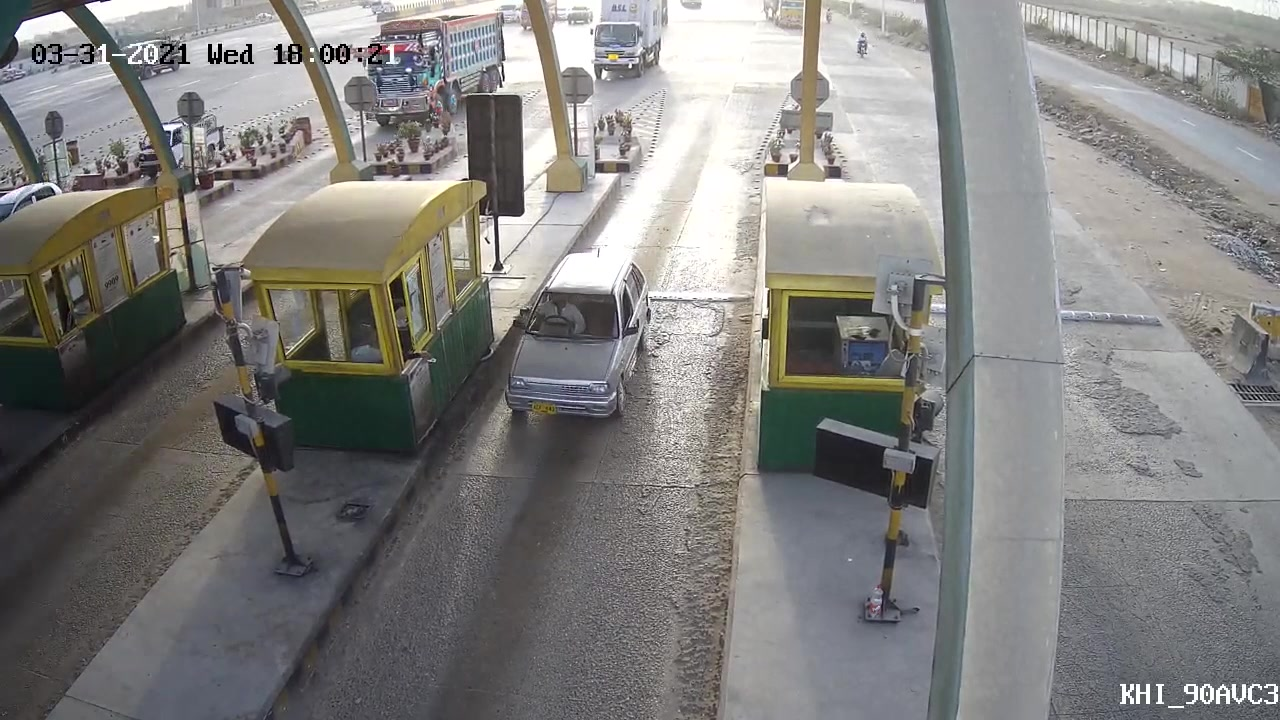F1: (495, 246, 669, 429)
